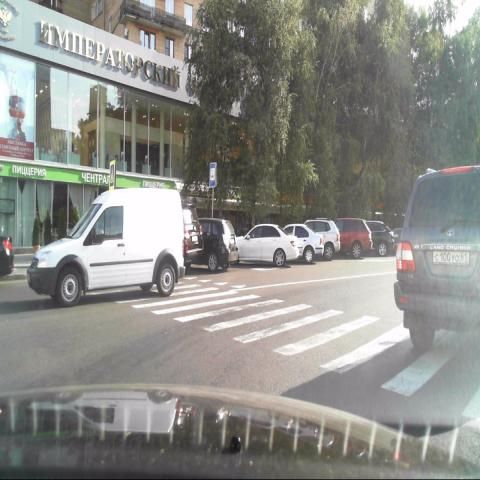5_19_1: (108, 160, 116, 191)
7_5: (209, 161, 217, 189)
